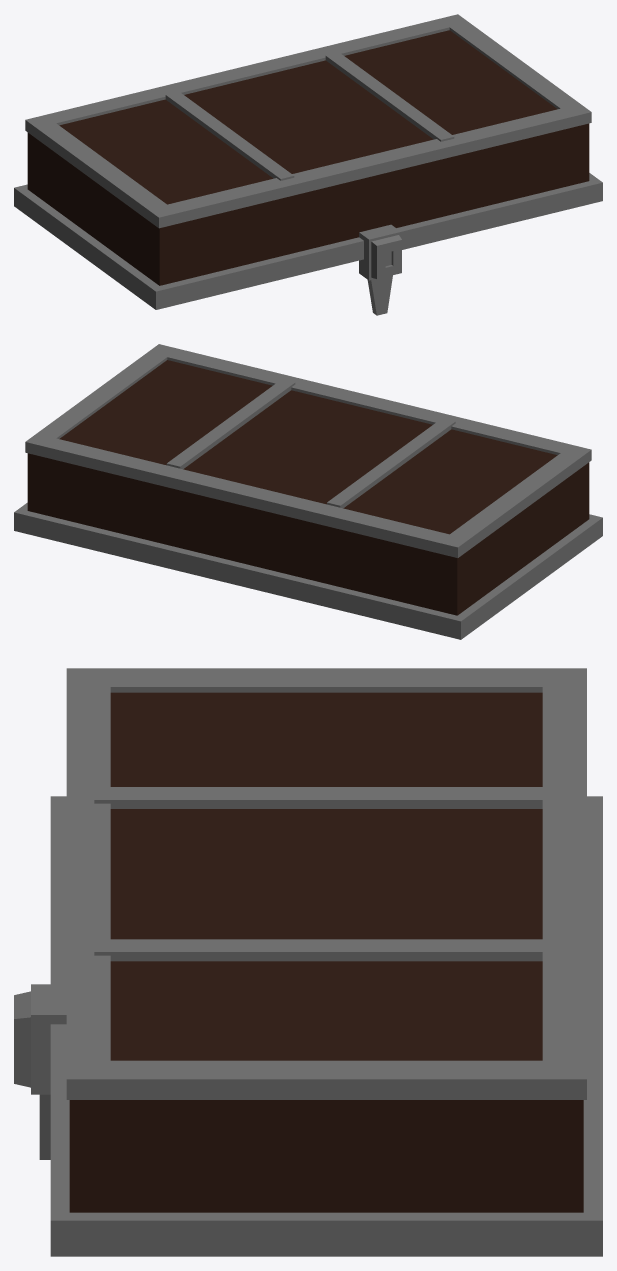
The model's file is SM_chest_lid_01.fbx.
3 views of the same model, one above another, from view 1: azimuth 30°, elevation 25°; view 2: azimuth 150°, elevation 25°; view 3: azimuth 270°, elevation 25° (orthographic). The views are drawn at different scales.
Visible parts, largest first — view 1: Cylinder047; view 2: Cylinder047; view 3: Cylinder047.
Boxes of the visible parts, x1,y1,x2,y2 form: Cylinder047: (14,14,602,315); Cylinder047: (14,344,602,639); Cylinder047: (14,668,602,1256).
Size of the model in its own units: 56.23 by 17.6 by 32.98.
